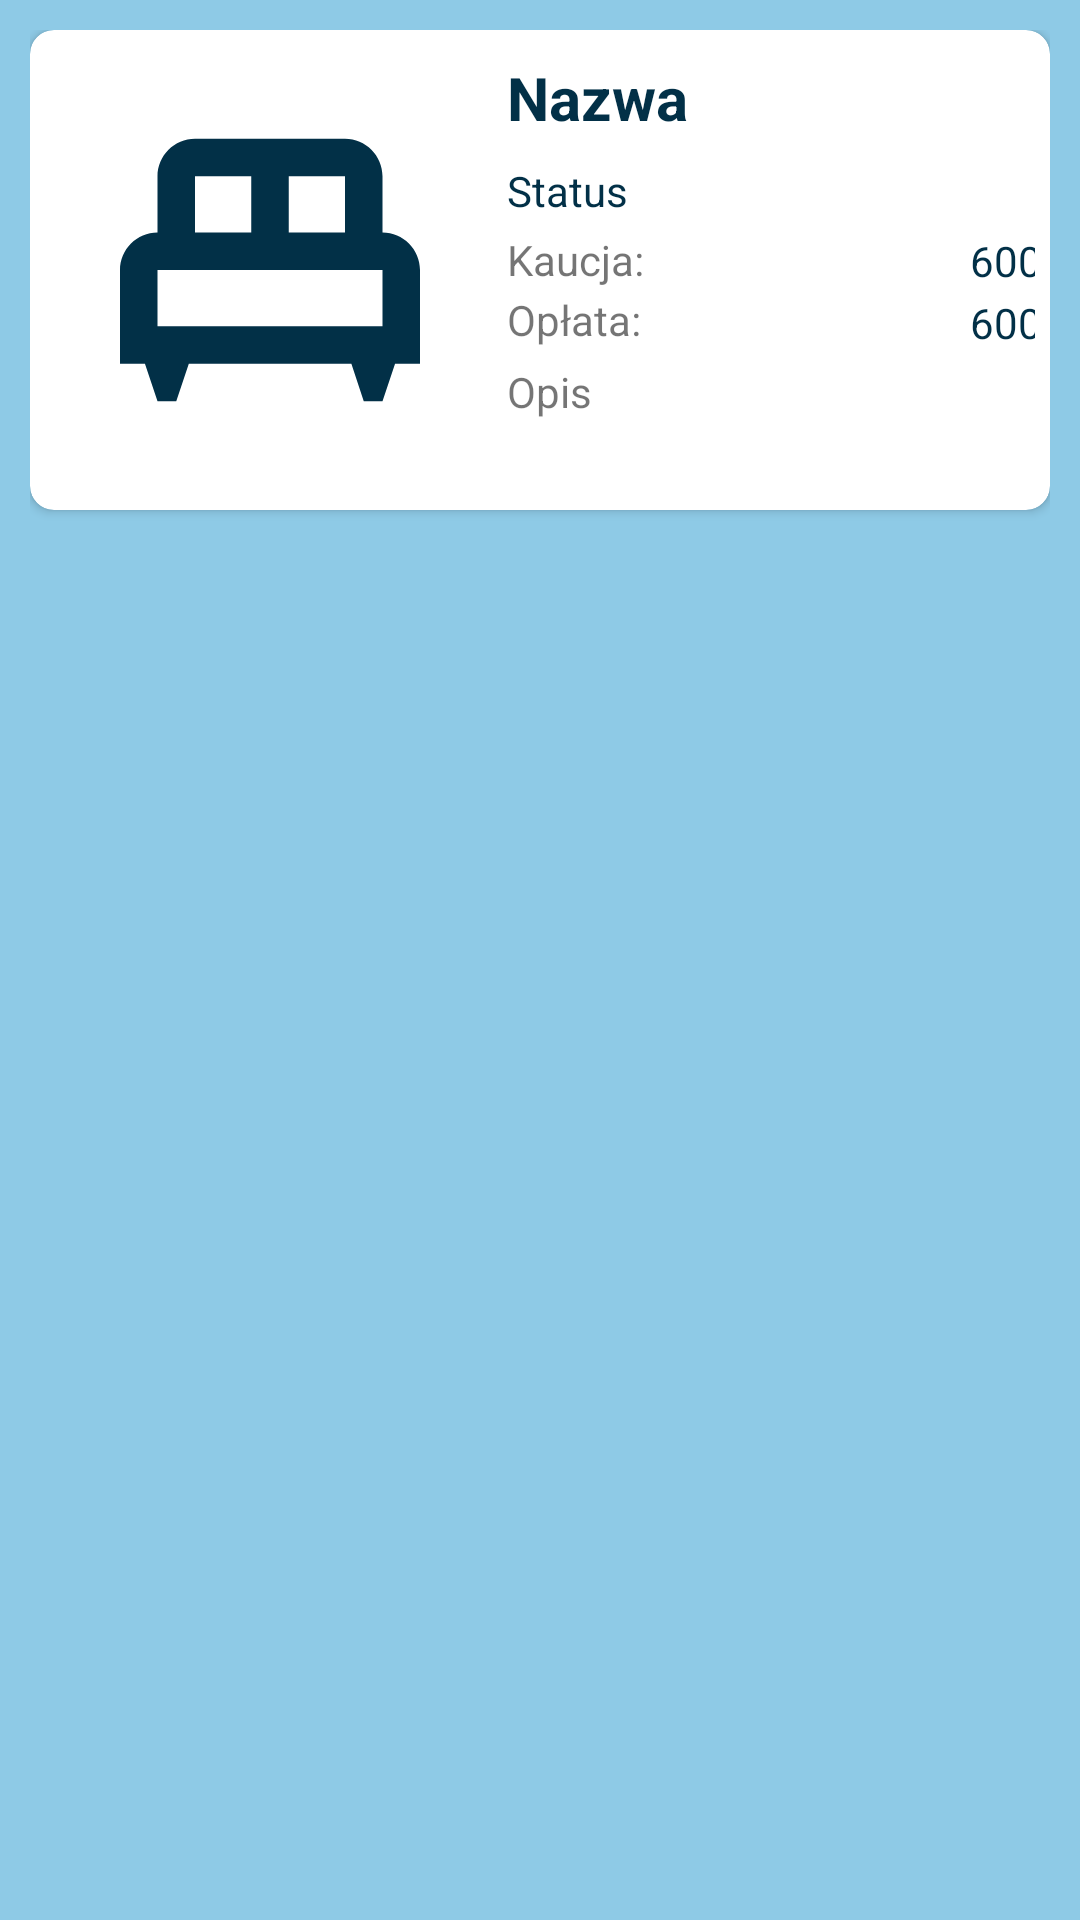

Icons on this 1080 × 1920 Android screen, each with the point to tap as (x=x, y=y):
room: (x=270, y=270)
